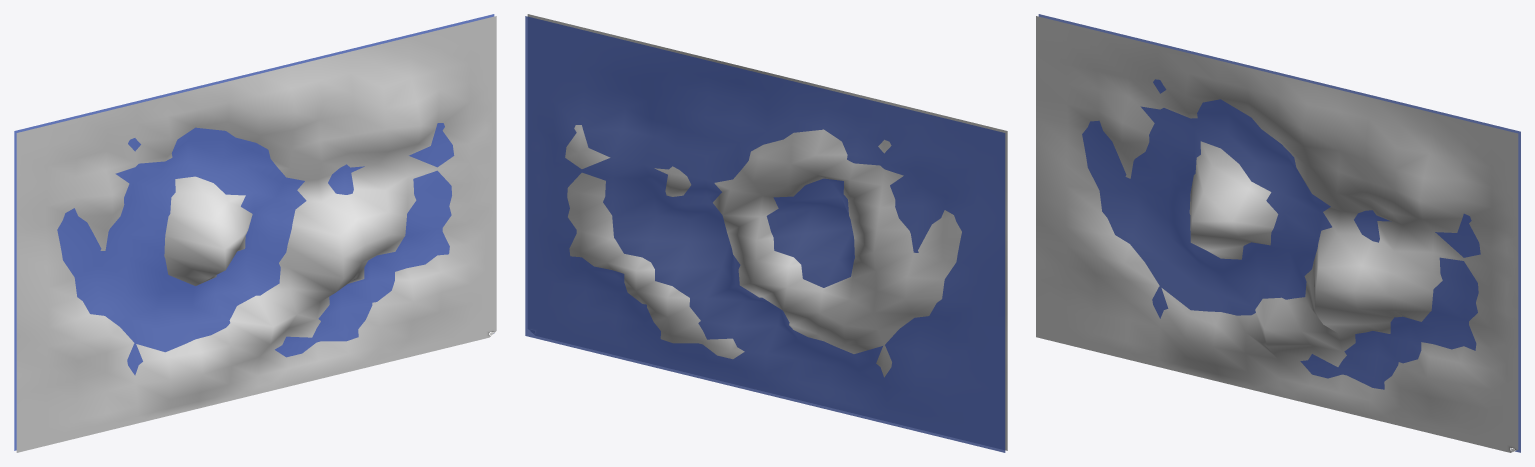
Rendered from lakes.fbx.
The picture shows the model from 3 angles, left to right: view 1: azimuth 30°, elevation 25°; view 2: azimuth 150°, elevation 25°; view 3: azimuth 330°, elevation 25°; orthographic projection.
Visible parts, largest first — view 1: landscape_earth, landscape_water; view 2: landscape_earth, landscape_water; view 3: landscape_earth, landscape_water.
Part boxes in pixels (<box>): landscape_earth: <box>16,16,496,452</box>; landscape_water: <box>14,14,494,450</box>; landscape_earth: <box>527,14,1007,450</box>; landscape_water: <box>525,16,1005,452</box>; landscape_earth: <box>1036,16,1518,452</box>; landscape_water: <box>1038,14,1520,452</box>.
Bounding box in the file's own units: 314 × 200 × 46.1.
